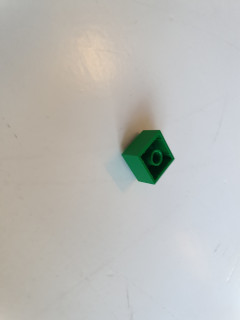2x2 green: (120, 129, 176, 185)
